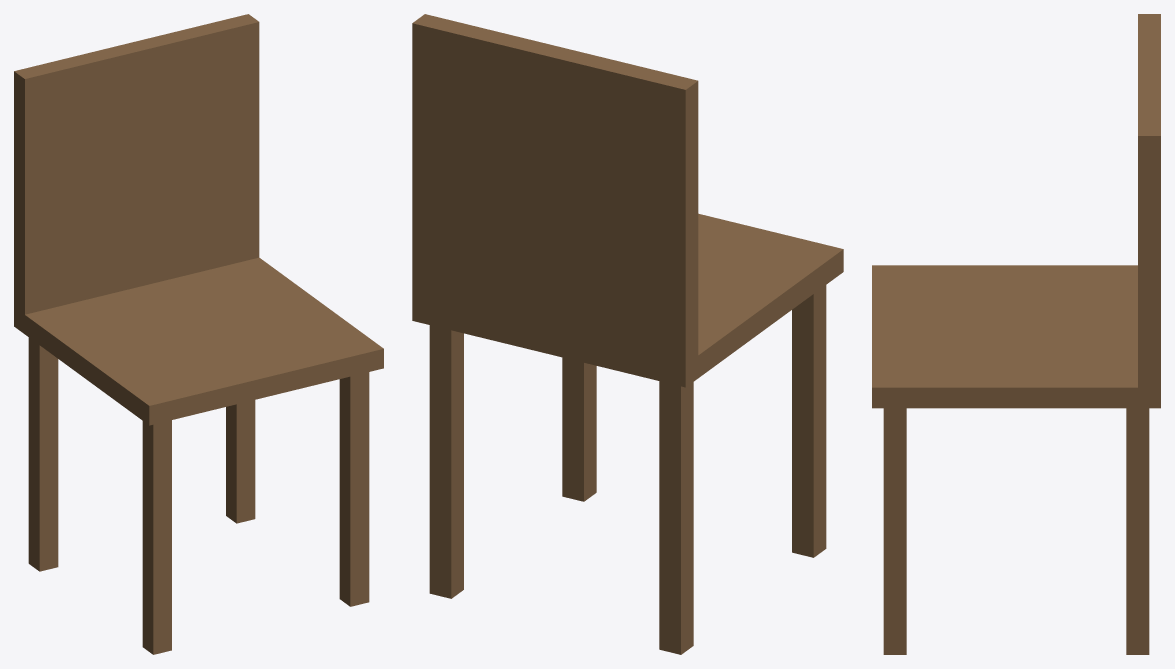
The model's file is porch-17.glb.
The picture shows the model from 3 angles, left to right: view 1: azimuth 30°, elevation 25°; view 2: azimuth 150°, elevation 25°; view 3: azimuth 270°, elevation 25°; orthographic projection. The views are drawn at different scales.
Bounding box in the file's own units: 1.5 × 3 × 1.5.
